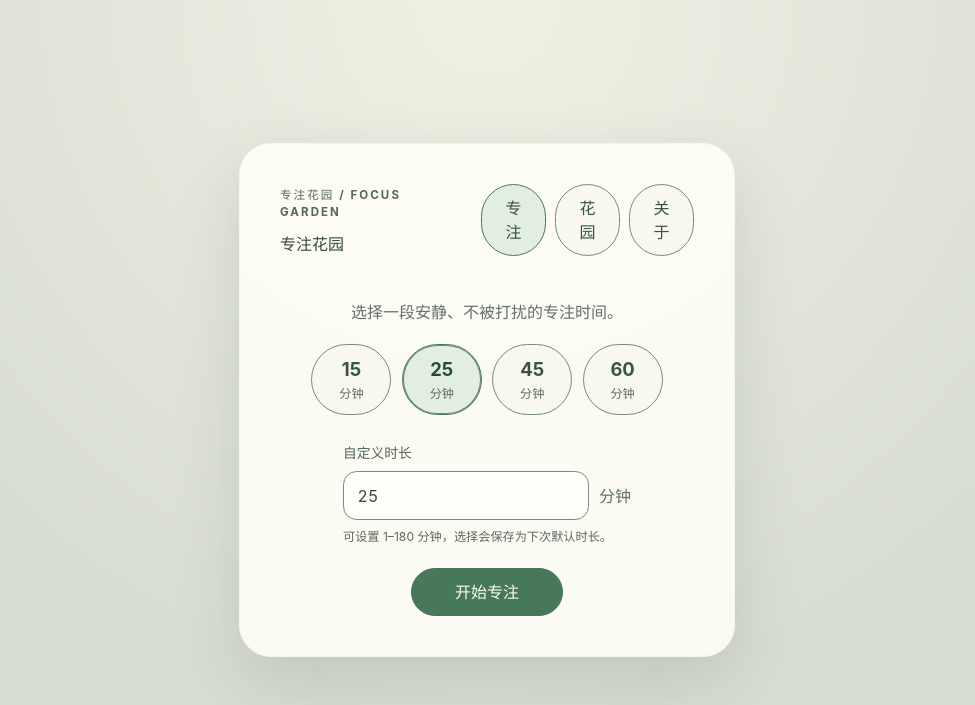
App › loads Garden only after navigation, without blocking Focus when the request fails
Check: the button named "15分钟" is shown, box [311,344,391,415]
Click the button "花园" at {"x": 587, "y": 220}, box [555,184,620,256]
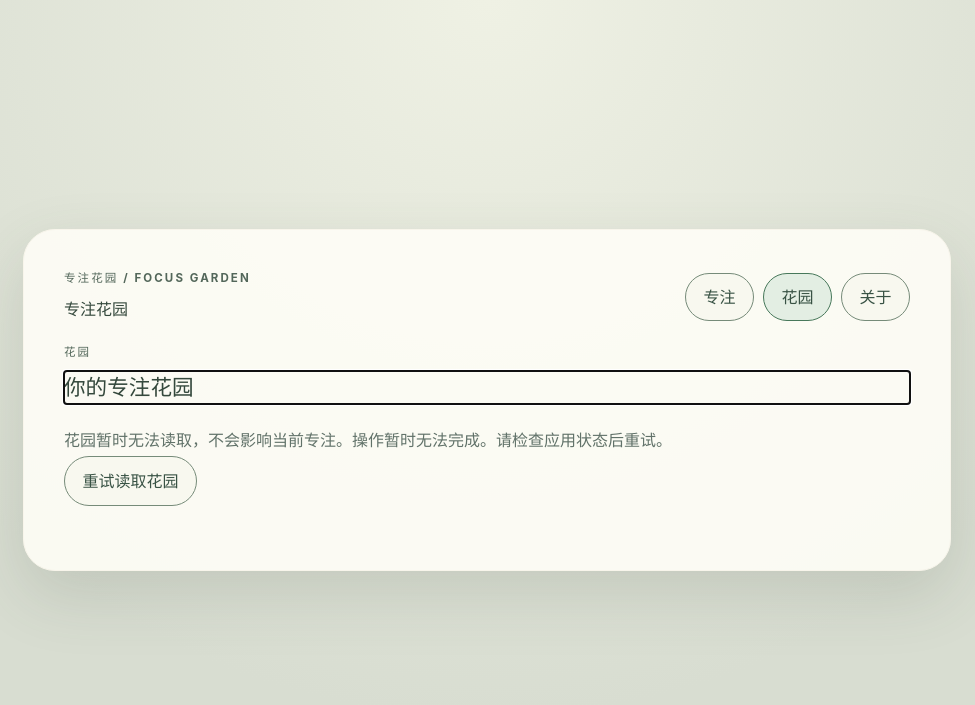
Check: the button "重试读取花园" is shown
Click the button "重试读取花园" at {"x": 131, "y": 482}, box [64,456,197,506]
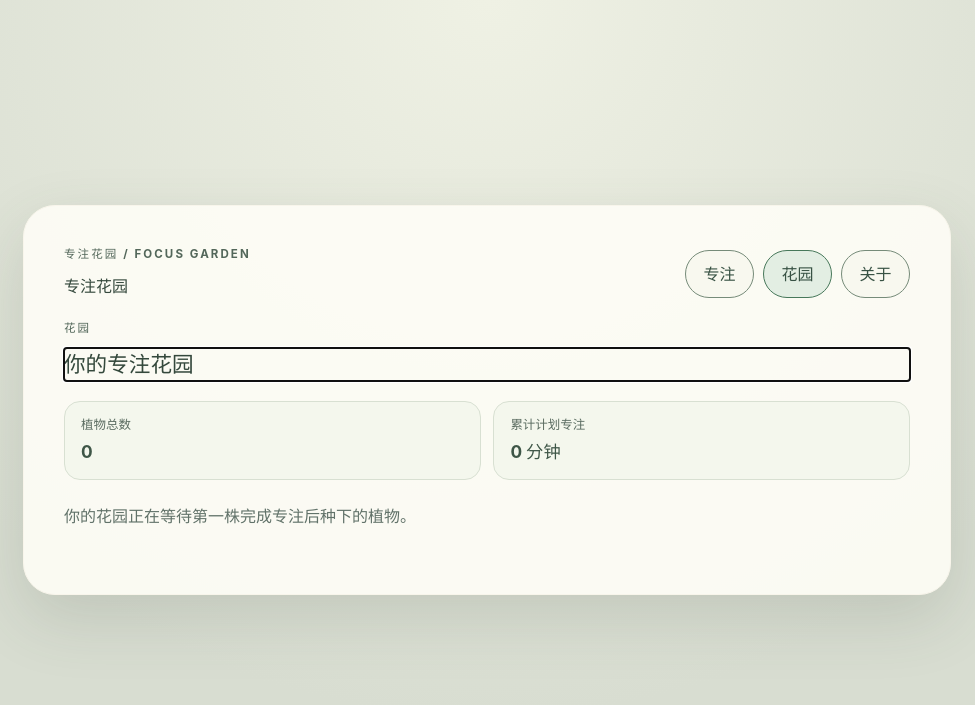
Check: the text "你的花园正在等待第一株完成专注后种下的植物。" is shown, box [64,506,416,526]
